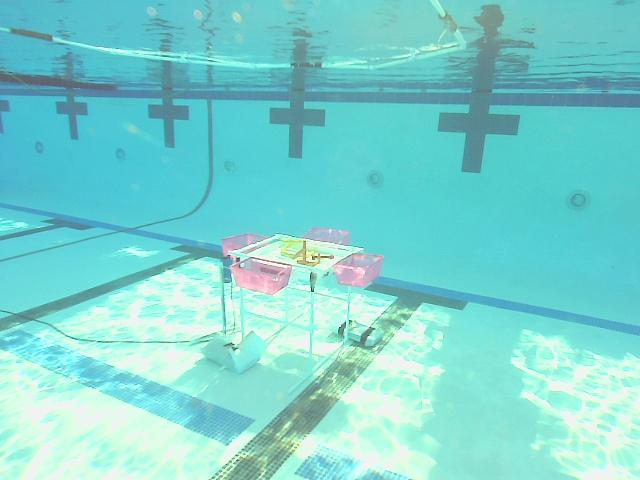table: (201, 222, 385, 374)
